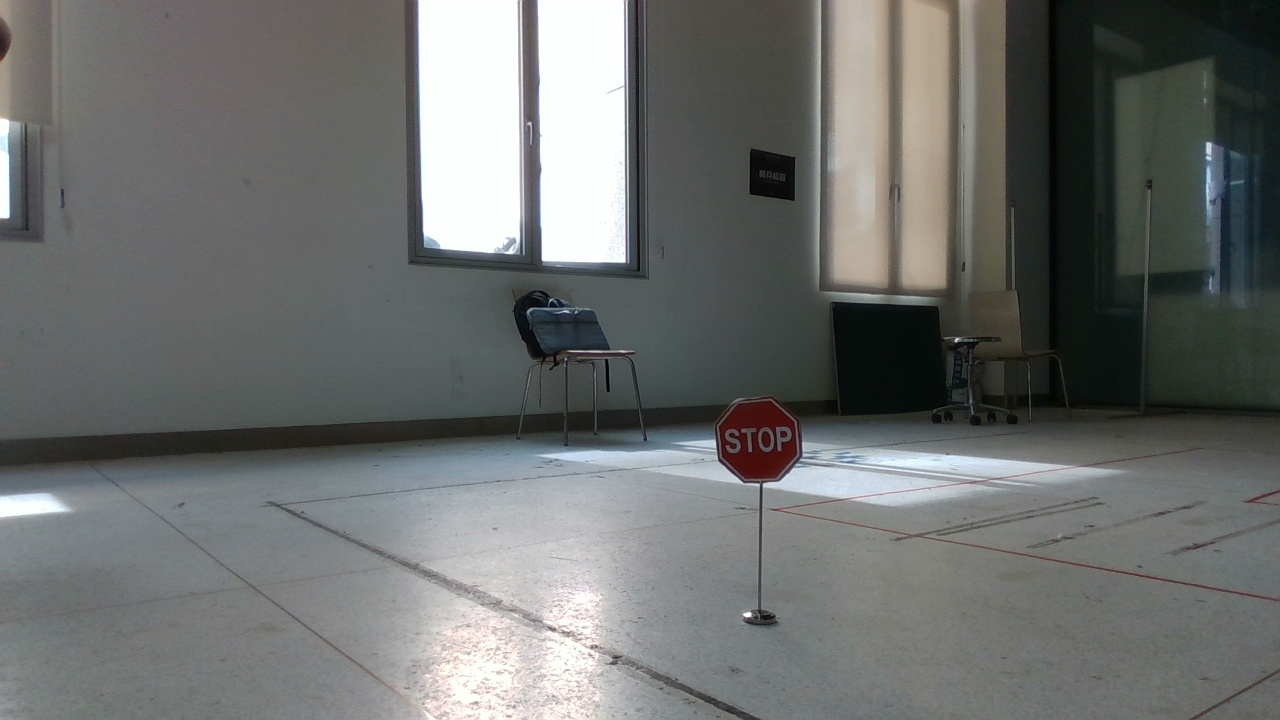stop_sign: (696, 386, 821, 640)
